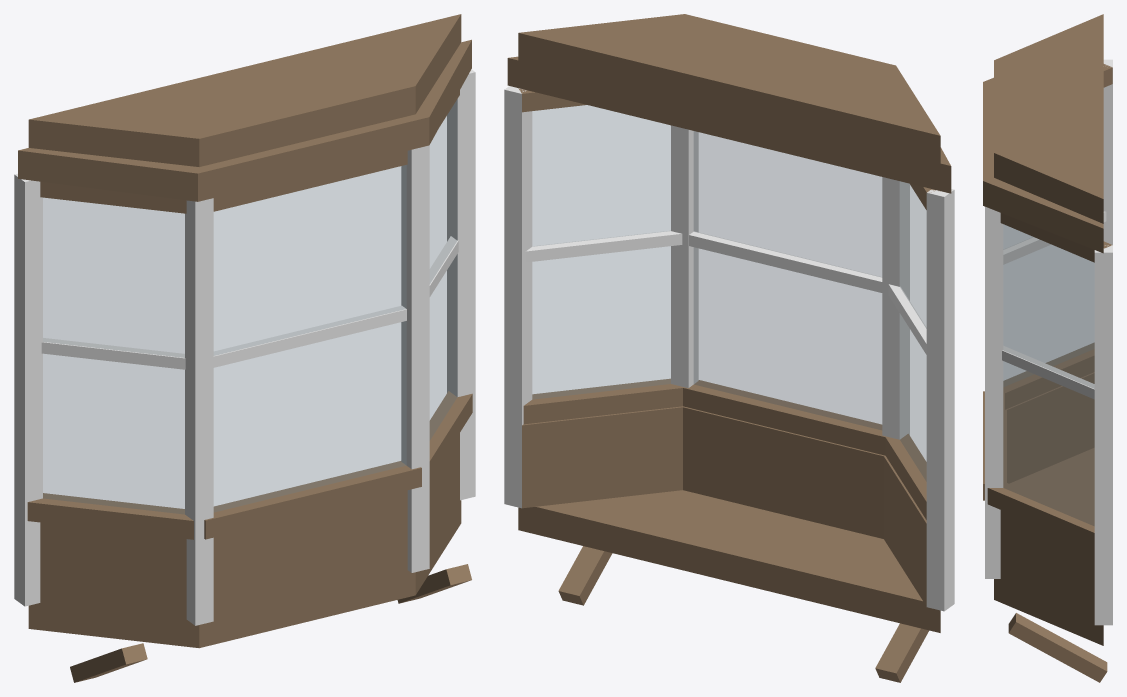
File: win_bay_oriel_2.4x3.0.glb
3 renders of one model, left to right at view 1: azimuth 30°, elevation 25°; view 2: azimuth 150°, elevation 25°; view 3: azimuth 270°, elevation 25°, orthographic. The views are drawn at different scales.
Parts seen in each view (by area): view 1: win_bay; view 2: win_bay; view 3: win_bay.
Part boxes in pixels (x1,y1,x2,y2): win_bay: (14,14,475,682); win_bay: (504,14,954,682); win_bay: (983,14,1112,682).
Bounding box in the file's own units: 2.52 × 3.03 × 0.71.
